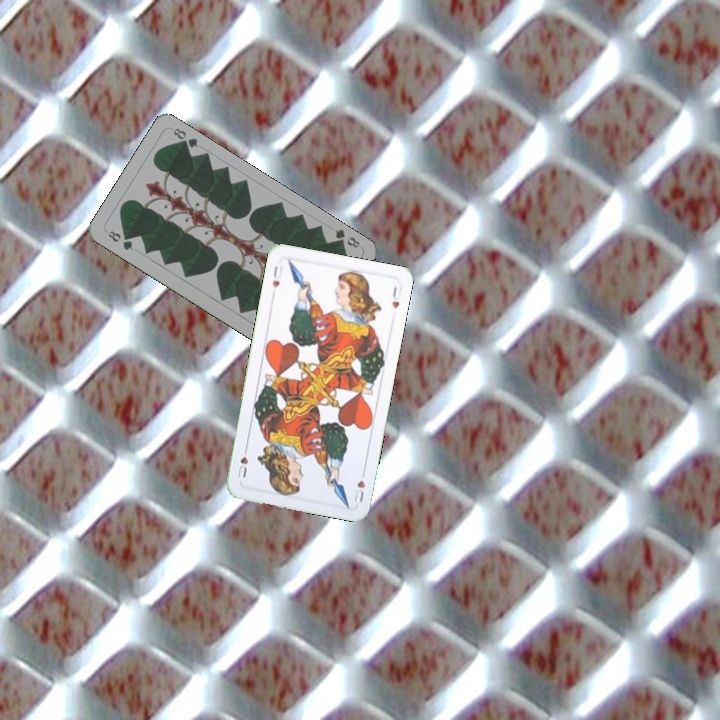G8: (104, 226, 135, 253), (330, 225, 362, 251)
HU: (350, 466, 368, 506), (268, 261, 285, 291)
